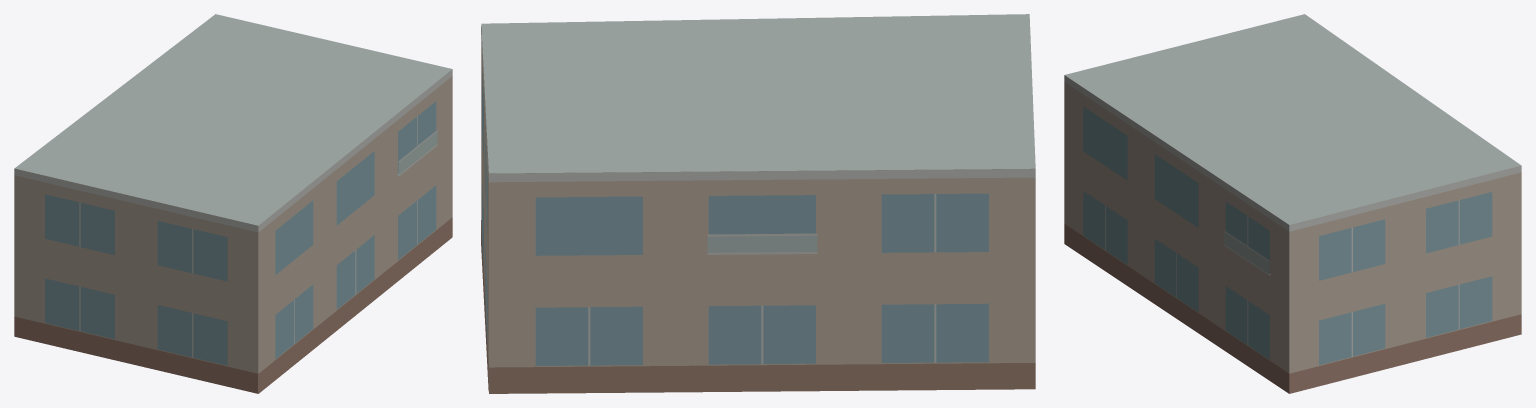
The model's file is survey-upis-32619361.glb.
3 renders of one model, left to right at view 1: azimuth 30°, elevation 25°; view 2: azimuth 150°, elevation 25°; view 3: azimuth 270°, elevation 25°, orthographic. The views are drawn at different scales.
Visible parts, largest first — view 1: survey-upis-32619361.tmp; view 2: survey-upis-32619361.tmp; view 3: survey-upis-32619361.tmp.
Part boxes in pixels (x1=…): survey-upis-32619361.tmp: x1=14, y1=14, x2=452, y2=393; survey-upis-32619361.tmp: x1=481, y1=14, x2=1035, y2=393; survey-upis-32619361.tmp: x1=1064, y1=14, x2=1521, y2=393.
Size of the model in its own units: 16.36 by 6.1 by 14.98.
